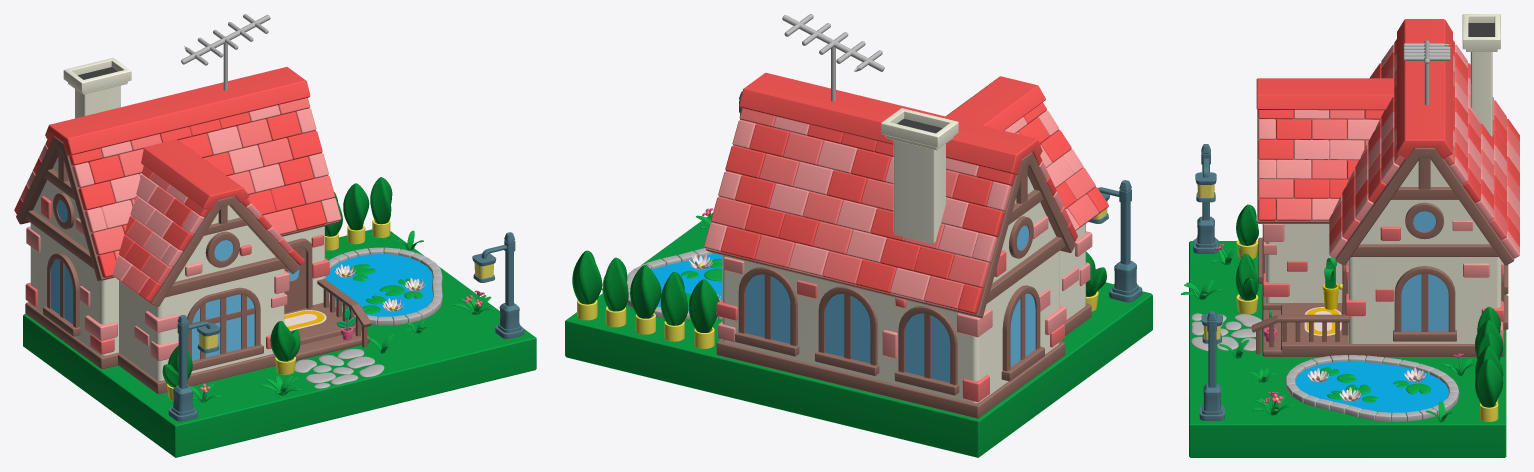
File: Town_Island_15.glb
The picture shows the model from 3 angles, left to right: view 1: azimuth 30°, elevation 25°; view 2: azimuth 150°, elevation 25°; view 3: azimuth 270°, elevation 25°; orthographic projection. The views are drawn at different scales.
Parts seen in each view (by area): view 1: Town_15_House_1, Town_15_Base_1, Town_15_Pond_1, Town_15_Street_Lamp_2, Town_15_Street_Lamp_1, Town_15_Path_1, Town_15_Antenna_1, Town_15_Plant_7, Town_15_Plant_4, Town_15_Plant_8, Town_15_Plant_3, Town_15_Carpet_1; view 2: Town_15_House_1, Town_15_Base_1, Town_15_Street_Lamp_2, Town_15_Pond_1, Town_15_Antenna_1, Town_15_Plant_6, Town_15_Plant_8, Town_15_Plant_1, Town_15_Plant_5, Town_15_Plant_7, Town_15_Plant_3; view 3: Town_15_House_1, Town_15_Base_1, Town_15_Pond_1, Town_15_Street_Lamp_2, Town_15_Street_Lamp_1, Town_15_Path_1, Town_15_Plant_8, Town_15_Plant_4, Town_15_Antenna_1, Town_15_Plant_3, Town_15_Plant_10, Town_15_Carpet_1 (+3 smaller).
Boxes of the visible parts, left/top/right/bottom form: Town_15_House_1: left=14, top=57, right=371, bottom=394; Town_15_Base_1: left=23, top=229, right=536, bottom=457; Town_15_Pond_1: left=325, top=247, right=442, bottom=325; Town_15_Street_Lamp_2: left=168, top=315, right=220, bottom=421; Town_15_Street_Lamp_1: left=472, top=232, right=524, bottom=338; Town_15_Path_1: left=294, top=348, right=384, bottom=388; Town_15_Antenna_1: left=181, top=14, right=270, bottom=90; Town_15_Plant_7: left=343, top=183, right=369, bottom=244; Town_15_Plant_4: left=270, top=321, right=300, bottom=374; Town_15_Plant_8: left=370, top=177, right=392, bottom=237; Town_15_Plant_3: left=162, top=345, right=192, bottom=400; Town_15_Carpet_1: left=284, top=310, right=326, bottom=330; Town_15_House_1: left=704, top=72, right=1108, bottom=418; Town_15_Base_1: left=565, top=213, right=1152, bottom=457; Town_15_Street_Lamp_2: left=1088, top=180, right=1142, bottom=302; Town_15_Pond_1: left=627, top=248, right=722, bottom=320; Town_15_Antenna_1: left=782, top=14, right=884, bottom=101; Town_15_Plant_6: left=630, top=265, right=661, bottom=334; Town_15_Plant_8: left=572, top=250, right=602, bottom=320; Town_15_Plant_1: left=689, top=279, right=719, bottom=348; Town_15_Plant_5: left=660, top=272, right=688, bottom=341; Town_15_Plant_7: left=603, top=257, right=628, bottom=327; Town_15_Plant_3: left=1086, top=251, right=1106, bottom=311; Town_15_House_1: left=1251, top=14, right=1519, bottom=356; Town_15_Base_1: left=1189, top=241, right=1506, bottom=457; Town_15_Pond_1: left=1285, top=355, right=1459, bottom=421; Town_15_Street_Lamp_2: left=1193, top=144, right=1218, bottom=253; Town_15_Street_Lamp_1: left=1199, top=311, right=1224, bottom=420; Town_15_Path_1: left=1191, top=313, right=1261, bottom=350; Town_15_Plant_8: left=1475, top=358, right=1503, bottom=421; Town_15_Plant_4: left=1235, top=253, right=1258, bottom=314; Town_15_Antenna_1: left=1403, top=40, right=1450, bottom=104; Town_15_Plant_3: left=1236, top=204, right=1258, bottom=258; Town_15_Plant_10: left=1322, top=257, right=1338, bottom=309; Town_15_Carpet_1: left=1304, top=307, right=1341, bottom=336.
Size of the model in its own units: 13.42 by 10.72 by 10.25.
Materials: 34 (34 with a texture image).
